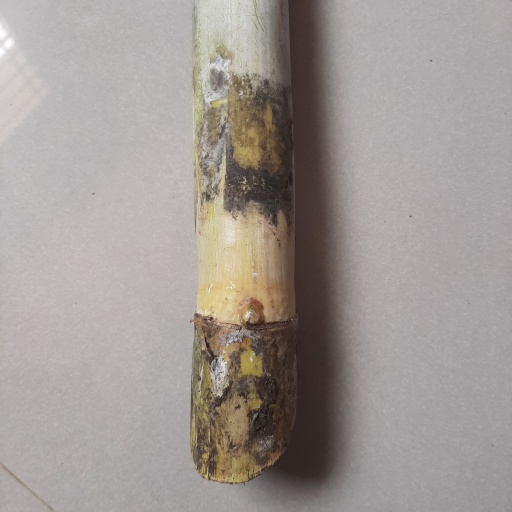Bud: (236, 296, 264, 328)
